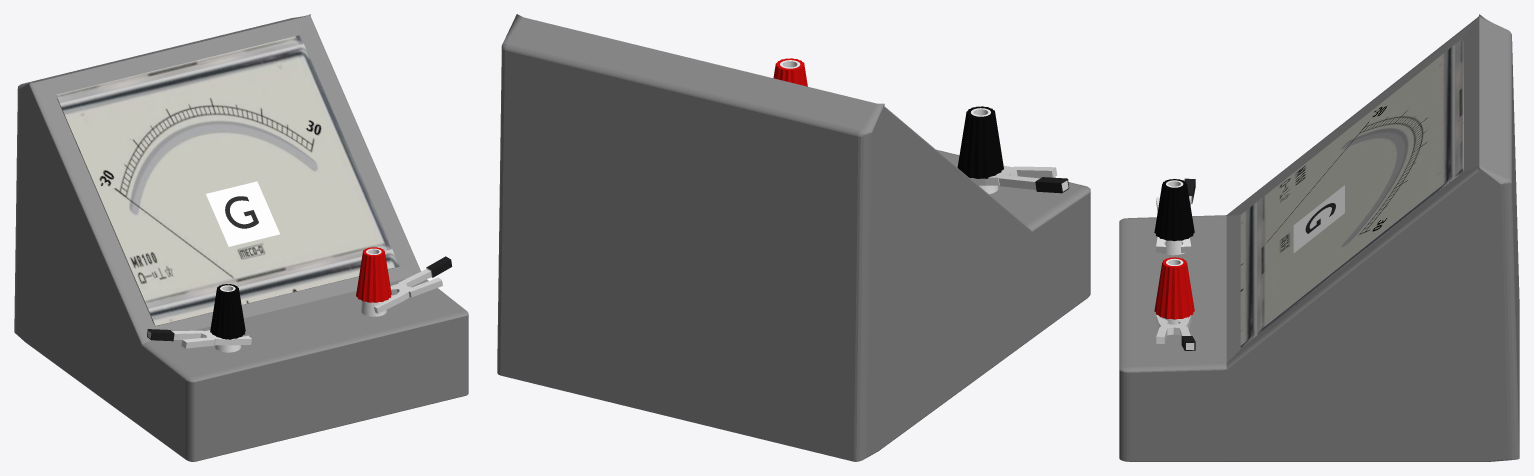
File: clean-G.gltf
3 views of the same model, side by side, from view 1: azimuth 30°, elevation 25°; view 2: azimuth 150°, elevation 25°; view 3: azimuth 270°, elevation 25° (orthographic). The views are drawn at different scales.
Parts seen in each view (by area): view 1: Cube_Material.004_0, Cube.003, Cube.008, Cylinder, Cylinder.001; view 2: Cube_Material.004_0, Cylinder.001, Cube.008, Cylinder; view 3: Cube_Material.004_0, Cube.003, Cylinder.001, Cylinder, Cube.008.
Part boxes in pixels (left/top/right/bottom): Cube_Material.004_0: left=14, top=14, right=468, bottom=461; Cube.003: left=56, top=35, right=399, bottom=326; Cube.008: left=147, top=256, right=452, bottom=348; Cylinder: left=356, top=247, right=391, bottom=316; Cylinder.001: left=210, top=284, right=245, bottom=352; Cube_Material.004_0: left=497, top=14, right=1090, bottom=461; Cylinder.001: left=957, top=106, right=1003, bottom=194; Cube.008: left=970, top=165, right=1069, bottom=193; Cylinder: left=773, top=58, right=807, bottom=86; Cube_Material.004_0: left=1119, top=14, right=1519, bottom=461; Cube.003: left=1240, top=38, right=1463, bottom=348; Cylinder.001: left=1154, top=179, right=1194, bottom=255; Cylinder: left=1154, top=257, right=1194, bottom=324; Cube.008: left=1156, top=178, right=1195, bottom=350.
Size of the model in its own units: 2.57 by 2.16 by 2.65.
Materials: 10 (1 with a texture image).
